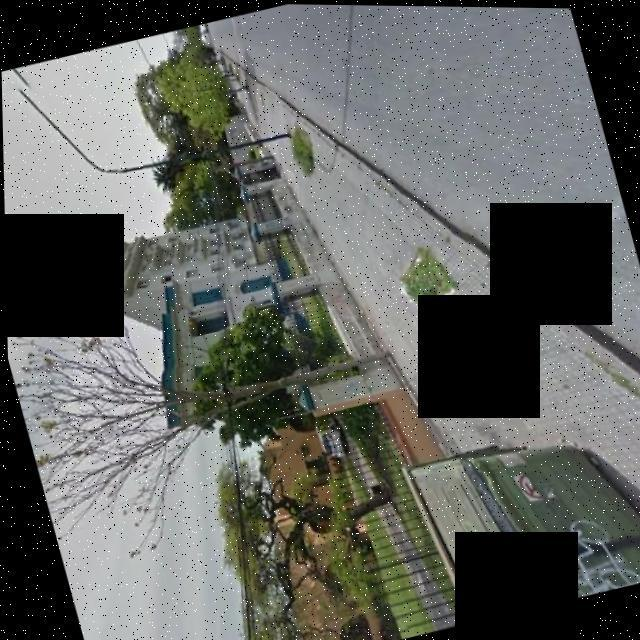bin: (386, 381, 640, 631)
